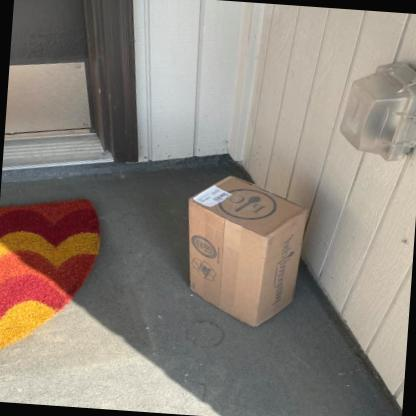box: (186, 176, 309, 329)
